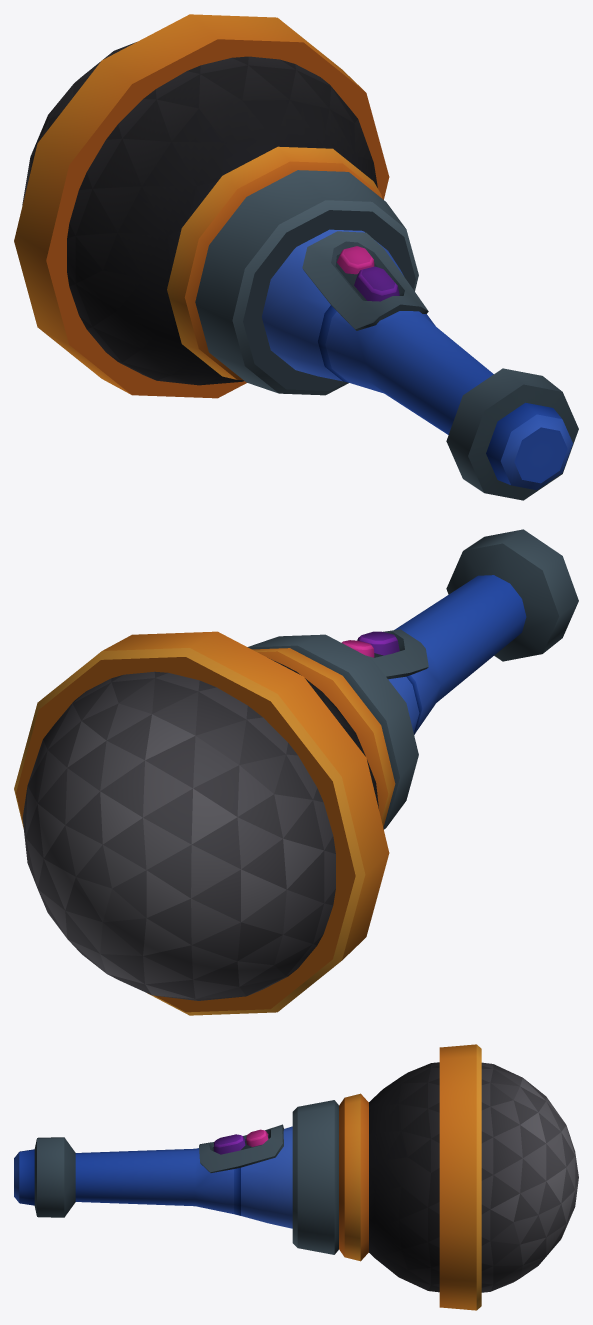
Rendered from Melee_MicDrop.fbx.
3 renders of one model, top to bottom at view 1: azimuth 30°, elevation 25°; view 2: azimuth 150°, elevation 25°; view 3: azimuth 270°, elevation 25°, orthographic. The views are drawn at different scales.
Visible parts, largest first — view 1: Melee_MicDrop; view 2: Melee_MicDrop; view 3: Melee_MicDrop.
Part boxes in pixels (bbox=[...]): Melee_MicDrop: bbox=[14, 14, 578, 500]; Melee_MicDrop: bbox=[14, 529, 578, 1015]; Melee_MicDrop: bbox=[14, 1044, 578, 1310].
Size of the model in its own units: 0.4754 by 0.4754 by 1.01.
